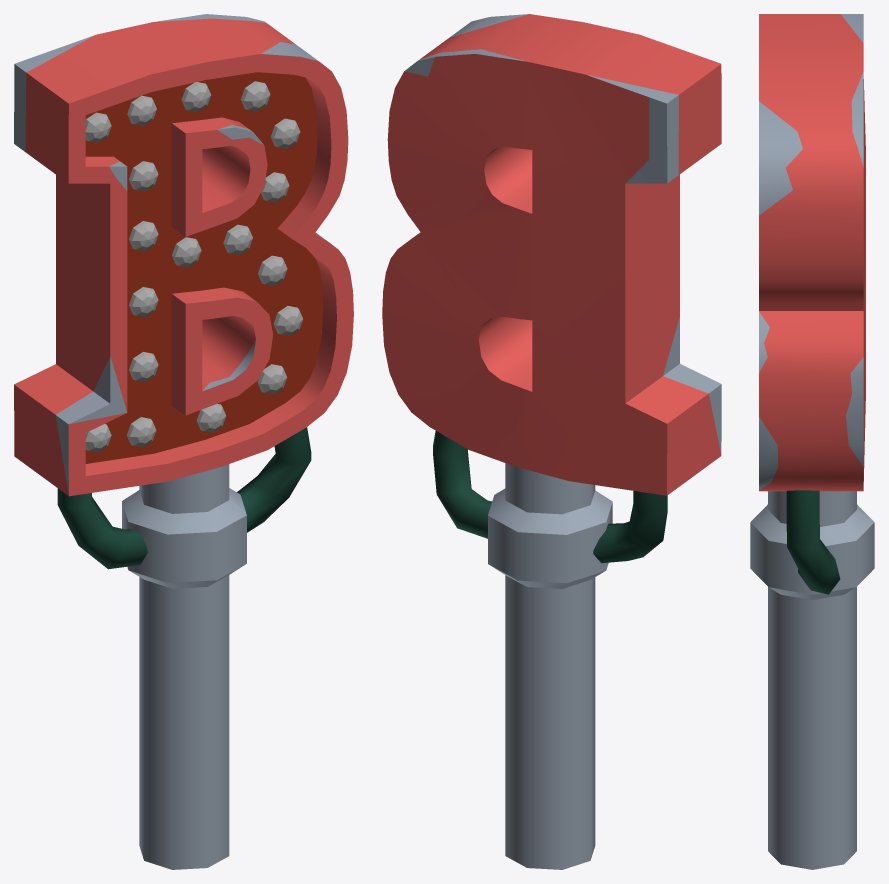
Rendered from DE_Guide_B_03.fbx.
3 views of the same model, side by side, from view 1: azimuth 30°, elevation 25°; view 2: azimuth 150°, elevation 25°; view 3: azimuth 270°, elevation 25° (orthographic). The views are drawn at different scales.
Parts seen in each view (by area): view 1: DE_Guide_B_03; view 2: DE_Guide_B_03; view 3: DE_Guide_B_03.
Boxes of the visible parts, <box> form: DE_Guide_B_03: <box>14,14,353,869</box>; DE_Guide_B_03: <box>382,14,721,869</box>; DE_Guide_B_03: <box>750,14,874,869</box>.
Size of the model in its own units: 75.31 by 205 by 29.59.
